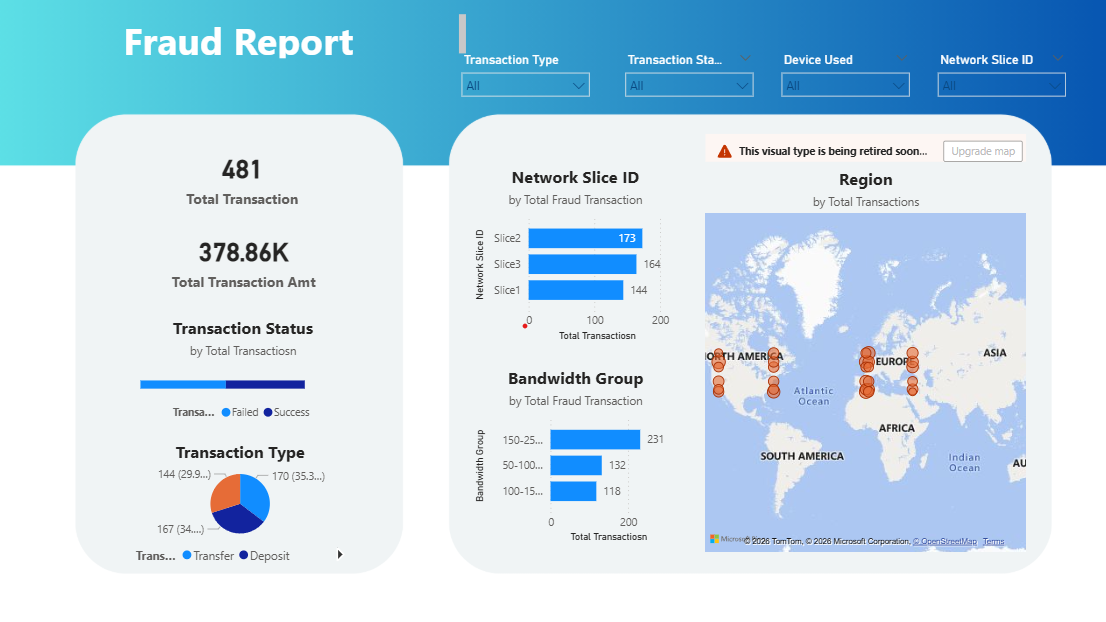

Layout of this report page (visuals, bound fields, positions):
{"tool":"powerbi","page":{"name":"Fraud Report","canvas":[1280,720],"ordinal":1},"visuals":[{"type":"card","fields":{"Values":["bank transaction_data.Total Transactiosn"]},"box":[142.4,159.3,279.9,98.9],"z":0},{"type":"card","fields":{"Values":["bank transaction_data.Total Transaction Amt"]},"box":[143.7,243.7,280.3,116.9],"z":1000},{"type":"barChart","title":"Transaction Status","fields":{"Y":["bank transaction_data.Total Transactiosn"],"Series":["bank transaction_data.Transaction Status"]},"box":[161.4,367.1,244.3,128.6],"z":2000},{"type":"pieChart","title":"Transaction Type","fields":{"Category":["bank transaction_data.Transaction Type"],"Y":["bank transaction_data.Total Transactiosn"]},"box":[156.3,508.5,249.3,150.7],"z":3000},{"type":"map","title":"Region","fields":{"Y":["bank transaction_data.Latitude"],"X":["bank transaction_data.Longitude"],"Size":["bank transaction_data.Total Transactiosn"]},"box":[807.1,159.3,376.4,482.6],"z":4000},{"type":"slicer","fields":{"Values":["bank transaction_data.Transaction Type"]},"box":[522.4,60.3,166.5,63.9],"z":5000},{"type":"slicer","fields":{"Values":["bank transaction_data.Transaction Status"]},"box":[710.6,60.3,166.5,63.9],"z":6000},{"type":"slicer","fields":{"Values":["bank transaction_data.Device Used"]},"box":[889.1,60.3,166.5,63.9],"z":7000},{"type":"slicer","fields":{"Values":["bank transaction_data.Network Slice ID"]},"box":[1067.7,60.3,166.5,63.9],"z":8000},{"type":"textbox","box":[141.7,16.7,401.7,60],"z":9000},{"type":"barChart","title":"Network Slice ID","fields":{"Category":["bank transaction_data.Network Slice ID"],"Y":["bank transaction_data.Total Transactiosn"]},"box":[543.7,194.4,238,205.6],"z":10000},{"type":"barChart","title":"Bandwidth Group","fields":{"Y":["bank transaction_data.Total Transactiosn"],"Category":["bank transaction_data.Bandwidth Group"]},"box":[544.4,424.4,238.9,205.6],"z":11000}]}

Visuals, with their boxes in screenshot pixels (x1, y1, x2, y2), scaled from the page's 1280x720 canvas onto the 1106x622 screenshot:
card - bank transaction_data.Total Transactiosn: region(123, 138, 365, 223)
card - bank transaction_data.Total Transaction Amt: region(124, 211, 366, 312)
"Transaction Status" barChart: region(139, 317, 351, 428)
"Transaction Type" pieChart: region(135, 439, 350, 569)
"Region" map: region(697, 138, 1023, 555)
slicer - bank transaction_data.Transaction Type: region(451, 52, 595, 107)
slicer - bank transaction_data.Transaction Status: region(614, 52, 758, 107)
slicer - bank transaction_data.Device Used: region(768, 52, 912, 107)
slicer - bank transaction_data.Network Slice ID: region(923, 52, 1066, 107)
textbox: region(122, 14, 470, 66)
"Network Slice ID" barChart: region(470, 168, 675, 346)
"Bandwidth Group" barChart: region(470, 367, 677, 544)
